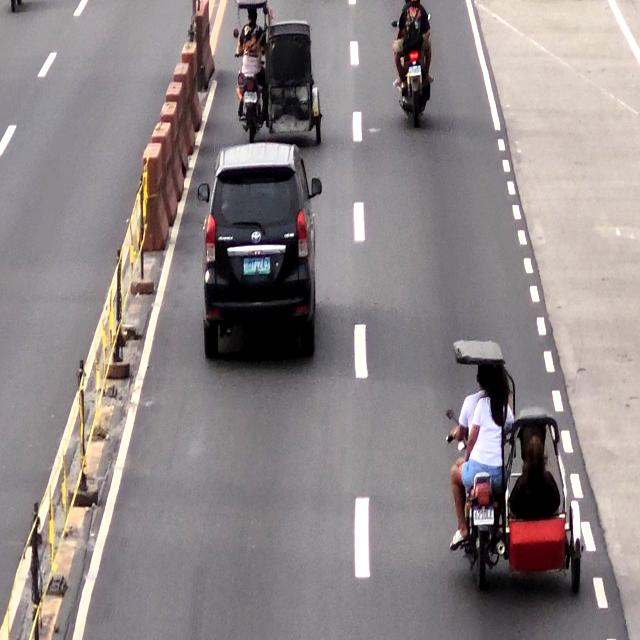Car: (203, 146, 313, 354)
License-Plate: (239, 255, 273, 277), (472, 505, 495, 524), (408, 64, 422, 76)
Motorcycle: (400, 0, 433, 121)
Tricycle: (451, 332, 586, 588), (242, 0, 320, 142)
